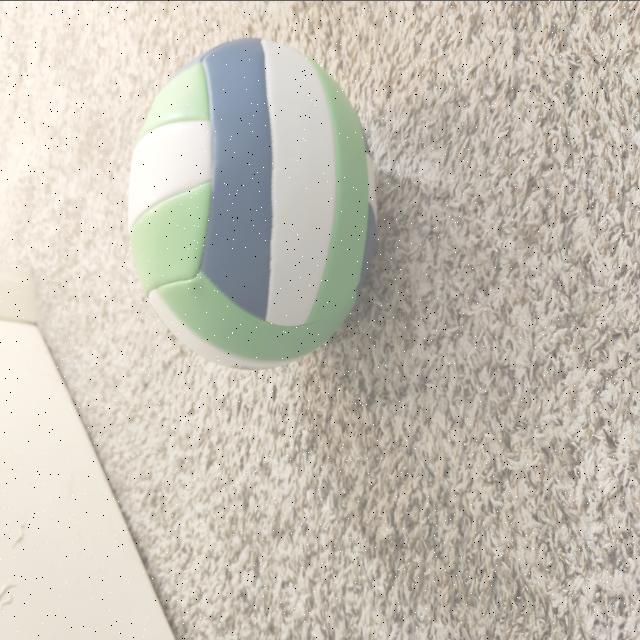ball: (132, 45, 370, 369)
